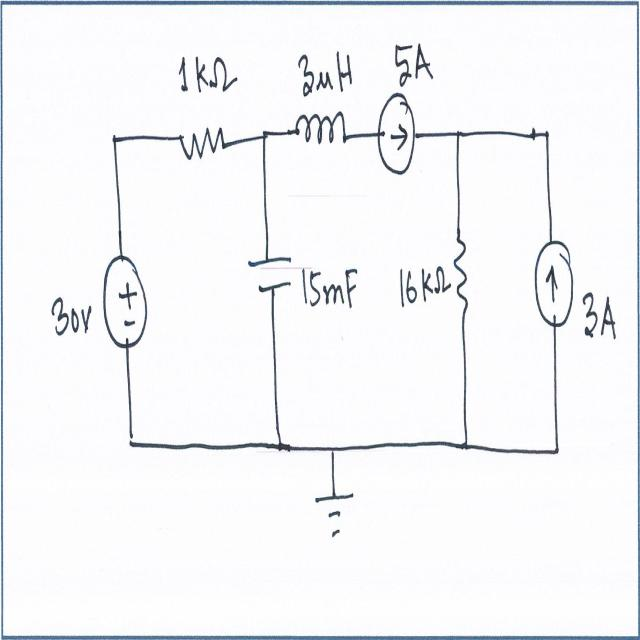capacitor: (244, 248, 295, 294)
current_source: (533, 232, 580, 337), (375, 86, 420, 177)
ground: (312, 484, 358, 546)
inductor: (291, 102, 351, 153)
resistor: (174, 116, 229, 164), (453, 229, 472, 318)
voltage_source: (101, 250, 149, 358)
